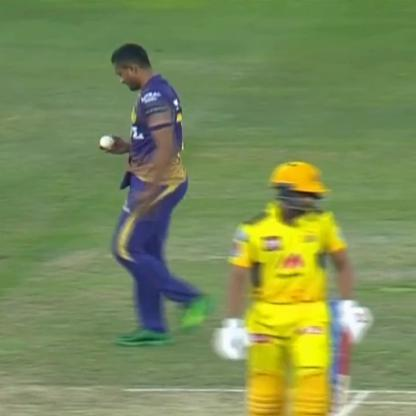ball: (94, 126, 119, 156)
